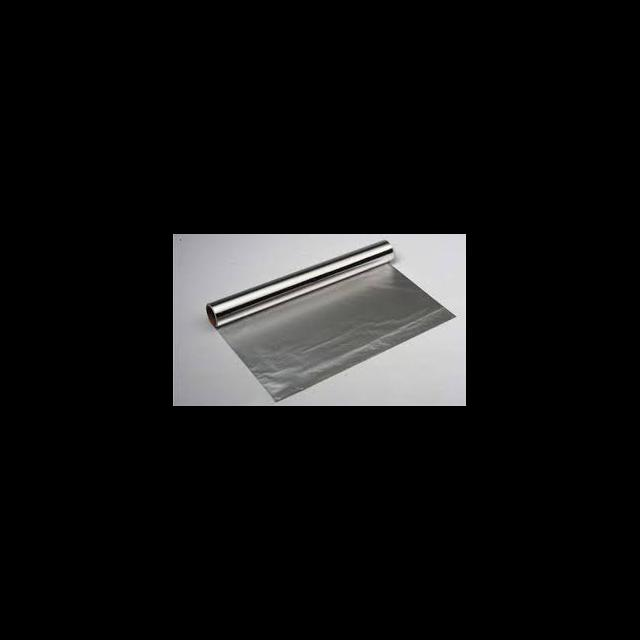metal: (206, 239, 456, 402)
